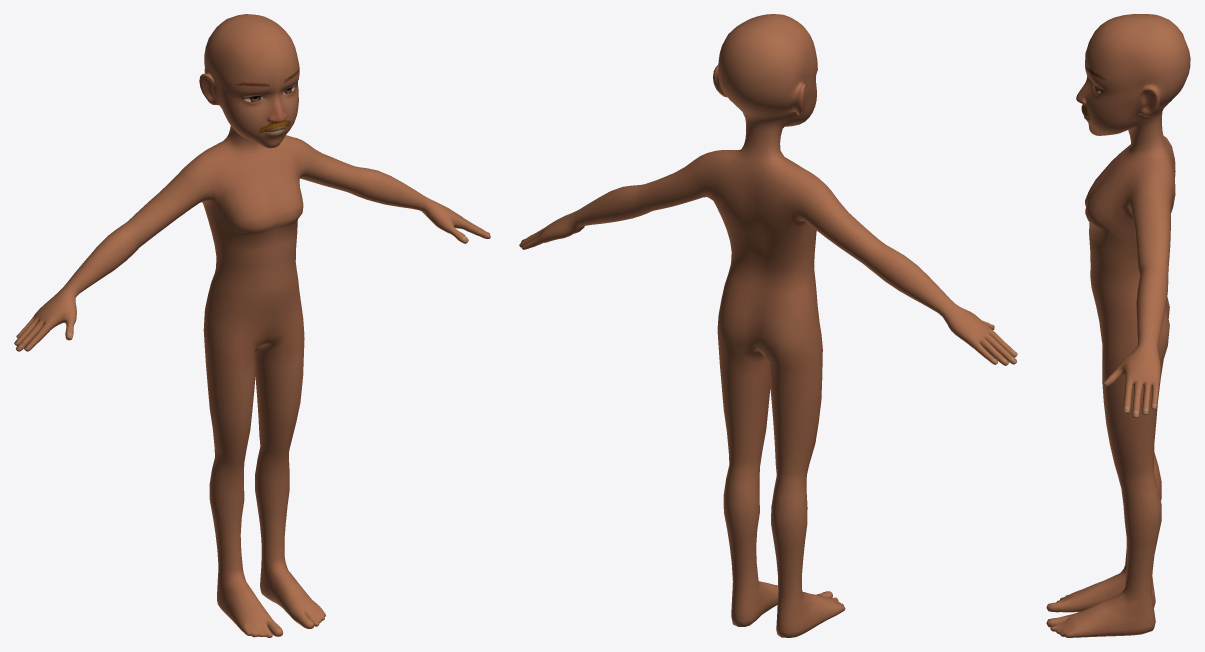
The model's file is frame_0044.glb.
3 views of the same model, side by side, from view 1: azimuth 30°, elevation 25°; view 2: azimuth 150°, elevation 25°; view 3: azimuth 270°, elevation 25° (orthographic). The views are drawn at different scales.
Visible parts, largest first — view 1: frame_0044_head_geo; view 2: frame_0044_head_geo; view 3: frame_0044_head_geo.
Part boxes in pixels (<box>): frame_0044_head_geo: <box>14,14,490,637</box>; frame_0044_head_geo: <box>519,14,1017,637</box>; frame_0044_head_geo: <box>1046,14,1190,637</box>.
Bounding box in the file's own units: 1.28 × 1.5 × 0.3253.
Materials: 3 (3 with a texture image).
